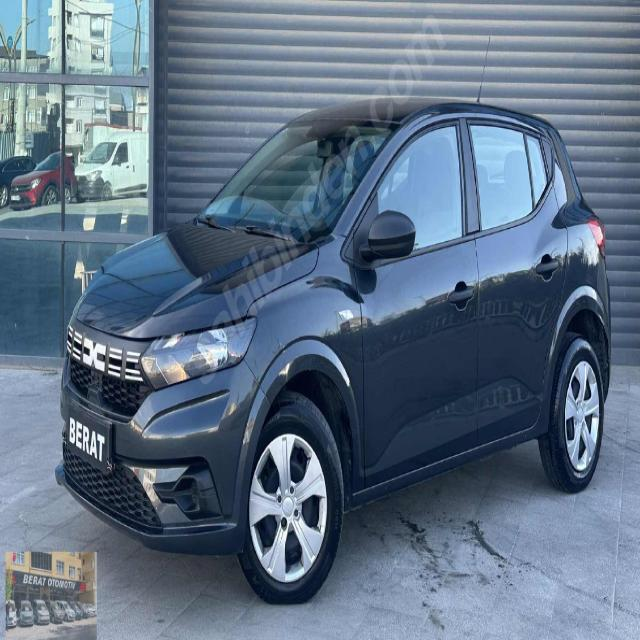dacia: (82, 329, 108, 377)
